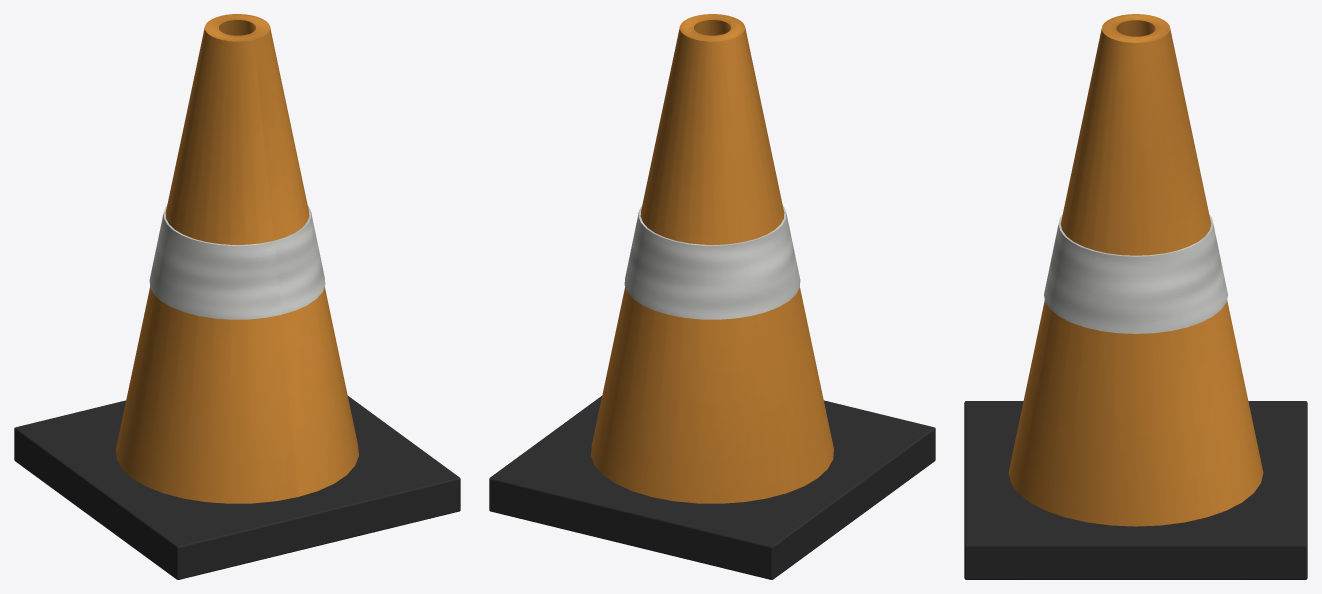
The model's file is fps-weapon-set-and-firing-range-traffic-cone-bb9ee65b__19518.glb.
The picture shows the model from 3 angles, left to right: view 1: azimuth 30°, elevation 25°; view 2: azimuth 150°, elevation 25°; view 3: azimuth 270°, elevation 25°; orthographic projection. The views are drawn at different scales.
Visible parts, largest first — view 1: traffic-cone; view 2: traffic-cone; view 3: traffic-cone.
Boxes of the visible parts, x1=… form: traffic-cone: x1=14, y1=14, x2=460, y2=579; traffic-cone: x1=489, y1=14, x2=935, y2=579; traffic-cone: x1=964, y1=14, x2=1307, y2=579.
Bounding box in the file's own units: 0.35 × 0.54 × 0.35.
Materials: 3 (2 with a texture image).
